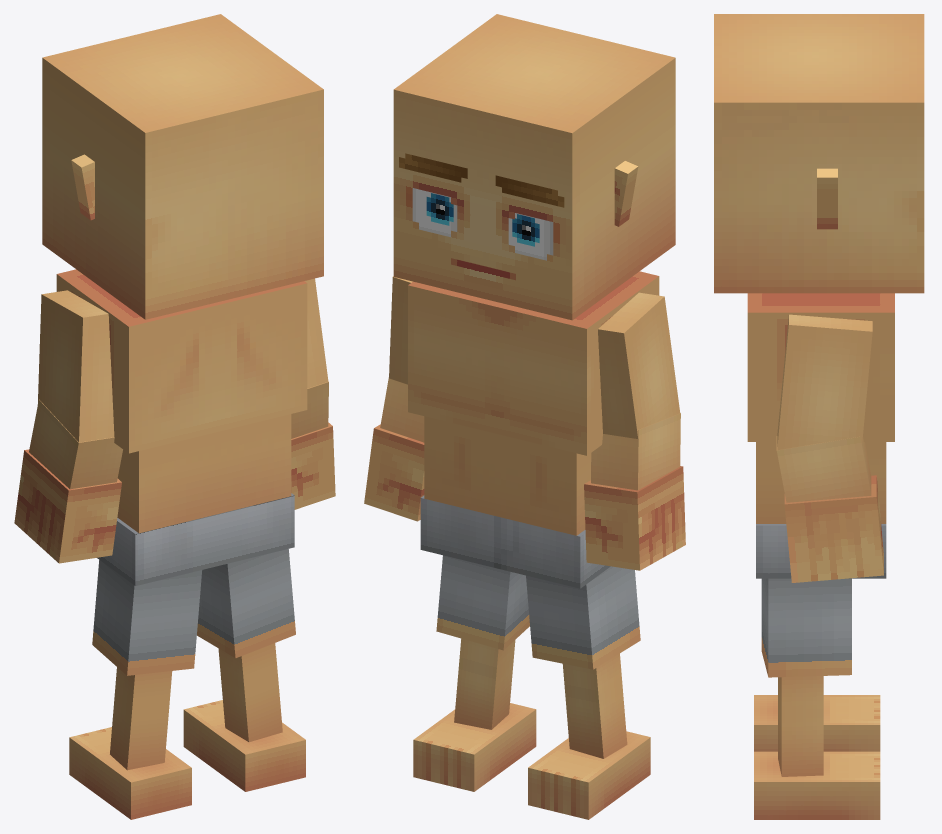
3 renders of one model, left to right at view 1: azimuth 30°, elevation 25°; view 2: azimuth 150°, elevation 25°; view 3: azimuth 270°, elevation 25°, orthographic.
Parts seen in each view (by area): view 1: Head, Upper, RT (×2), Lower, RFO (×2), RL (×2), Pelvis, LS, LH, LF, RH, RS (+2 smaller); view 2: Head, Upper, RT (×2), RFO (×2), Lower, RL (×2), LS, Pelvis, LH, LF, RH, RS (+9 smaller); view 3: Head, RFO (×2), Upper, RS, RT, RH, RF, RL, Lower, Pelvis, LER.
Part boxes in pixels (x1,y1,x2,y2): Head: [42, 14, 323, 319]; Upper: [56, 269, 307, 453]; RT (×2): [92, 505, 295, 675]; Lower: [117, 414, 291, 533]; RFO (×2): [69, 700, 305, 819]; RL (×2): [110, 643, 282, 770]; Pelvis: [97, 493, 294, 585]; LS: [37, 290, 114, 442]; LH: [14, 449, 121, 563]; LF: [29, 399, 122, 489]; RH: [291, 422, 335, 509]; RS: [305, 278, 328, 388]; Head: [393, 14, 675, 320]; Upper: [408, 271, 659, 455]; RT (×2): [436, 555, 640, 669]; RFO (×2): [413, 703, 650, 819]; Lower: [424, 416, 591, 535]; RL (×2): [454, 638, 627, 758]; LS: [598, 292, 680, 438]; Pelvis: [420, 495, 610, 588]; LH: [584, 466, 685, 570]; LF: [591, 413, 680, 490]; RH: [364, 424, 424, 521]; RS: [389, 276, 412, 384]; Head: [714, 14, 924, 293]; RFO (×2): [754, 695, 880, 819]; Upper: [747, 293, 894, 441]; RS: [777, 314, 872, 450]; RT: [761, 578, 851, 677]; RH: [784, 475, 883, 582]; RF: [776, 436, 871, 502]; RL: [778, 676, 823, 776]; Lower: [756, 442, 886, 523]; Pelvis: [756, 524, 886, 578]; LER: [817, 168, 837, 229].
Size of the model in its own units: 0.4842 by 1.18 by 0.3178.
Materials: 1 (1 with a texture image).
